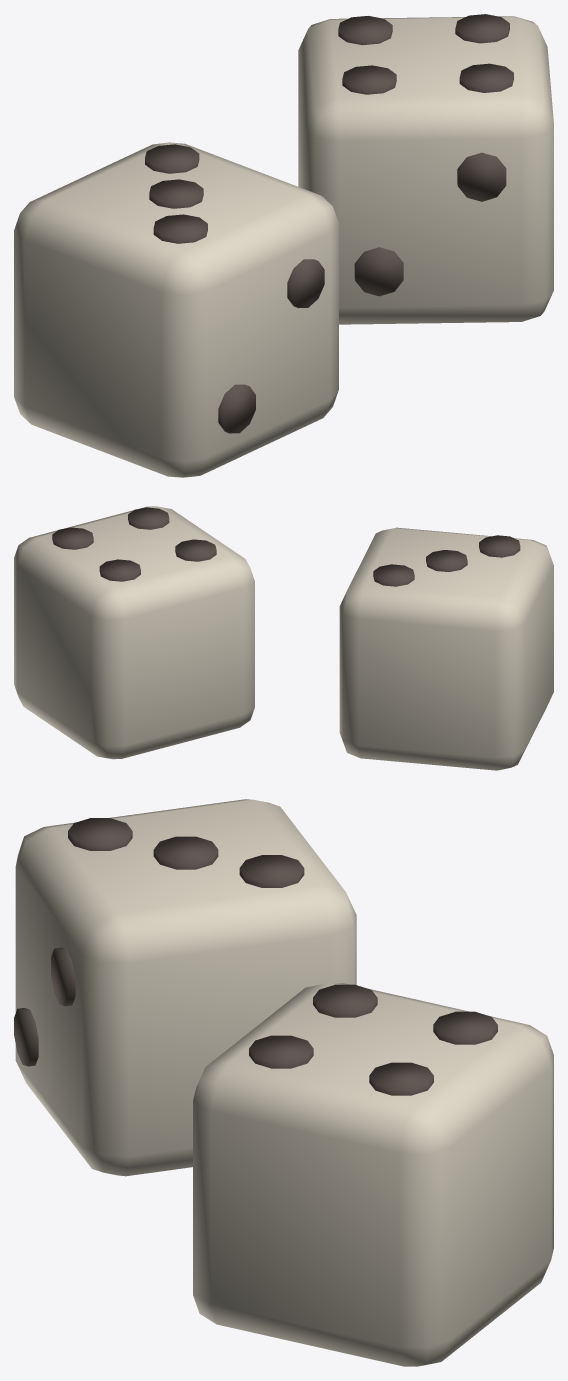
The model's file is bone_dice.glb.
3 views of the same model, one above another, from view 1: azimuth 30°, elevation 25°; view 2: azimuth 150°, elevation 25°; view 3: azimuth 270°, elevation 25° (orthographic). The views are drawn at different scales.
Parts seen in each view (by area): view 1: BoneDie_0, BoneDie_1, DiePipFront_1_0, DiePipFront_1_1, DiePipFront_0_0, DiePipFront_0_1, DiePipTop_0_1, DiePipTop_0_0, DiePipTop_0_2, DiePipTop_1_3, DiePipTop_1_0, DiePipTop_1_1 (+1 smaller); view 2: BoneDie_1, BoneDie_0, DiePipTop_1_0, DiePipTop_0_0, DiePipTop_1_1, DiePipTop_0_2, DiePipTop_1_2, DiePipTop_1_3, DiePipTop_0_1; view 3: BoneDie_1, BoneDie_0, DiePipTop_0_1, DiePipTop_1_1, DiePipTop_1_3, DiePipTop_1_0, DiePipTop_1_2, DiePipTop_0_2, DiePipTop_0_0, DiePipFront_0_1, DiePipFront_0_0.
Part boxes in pixels (x1,y1,x2,y2): BoneDie_0: [14, 142, 338, 477]; BoneDie_1: [298, 16, 553, 324]; DiePipFront_1_0: [354, 247, 403, 296]; DiePipFront_1_1: [457, 152, 506, 201]; DiePipFront_0_0: [218, 384, 255, 433]; DiePipFront_0_1: [287, 259, 324, 308]; DiePipTop_0_1: [149, 179, 203, 208]; DiePipTop_0_0: [153, 214, 207, 243]; DiePipTop_0_2: [145, 144, 199, 173]; DiePipTop_1_3: [455, 14, 509, 43]; DiePipTop_1_0: [342, 65, 396, 94]; DiePipTop_1_1: [459, 63, 513, 92]; BoneDie_1: [14, 506, 254, 759]; BoneDie_0: [339, 527, 553, 770]; DiePipTop_1_0: [175, 539, 216, 561]; DiePipTop_0_0: [479, 535, 520, 557]; DiePipTop_1_1: [128, 507, 169, 529]; DiePipTop_0_2: [373, 564, 414, 586]; DiePipTop_1_2: [99, 559, 140, 581]; DiePipTop_1_3: [52, 527, 93, 549]; DiePipTop_0_1: [426, 550, 467, 571]; BoneDie_1: [193, 982, 553, 1366]; BoneDie_0: [15, 799, 356, 1176]; DiePipTop_0_1: [153, 836, 218, 869]; DiePipTop_1_1: [249, 1035, 313, 1068]; DiePipTop_1_3: [369, 1062, 433, 1095]; DiePipTop_1_0: [313, 984, 377, 1017]; DiePipTop_1_2: [433, 1011, 497, 1044]; DiePipTop_0_2: [239, 855, 304, 887]; DiePipTop_0_0: [68, 818, 132, 850]; DiePipFront_0_1: [51, 947, 75, 1006]; DiePipFront_0_0: [14, 1008, 38, 1066].
Size of the model in its own units: 0.0932 by 0.0349 by 0.0634.
